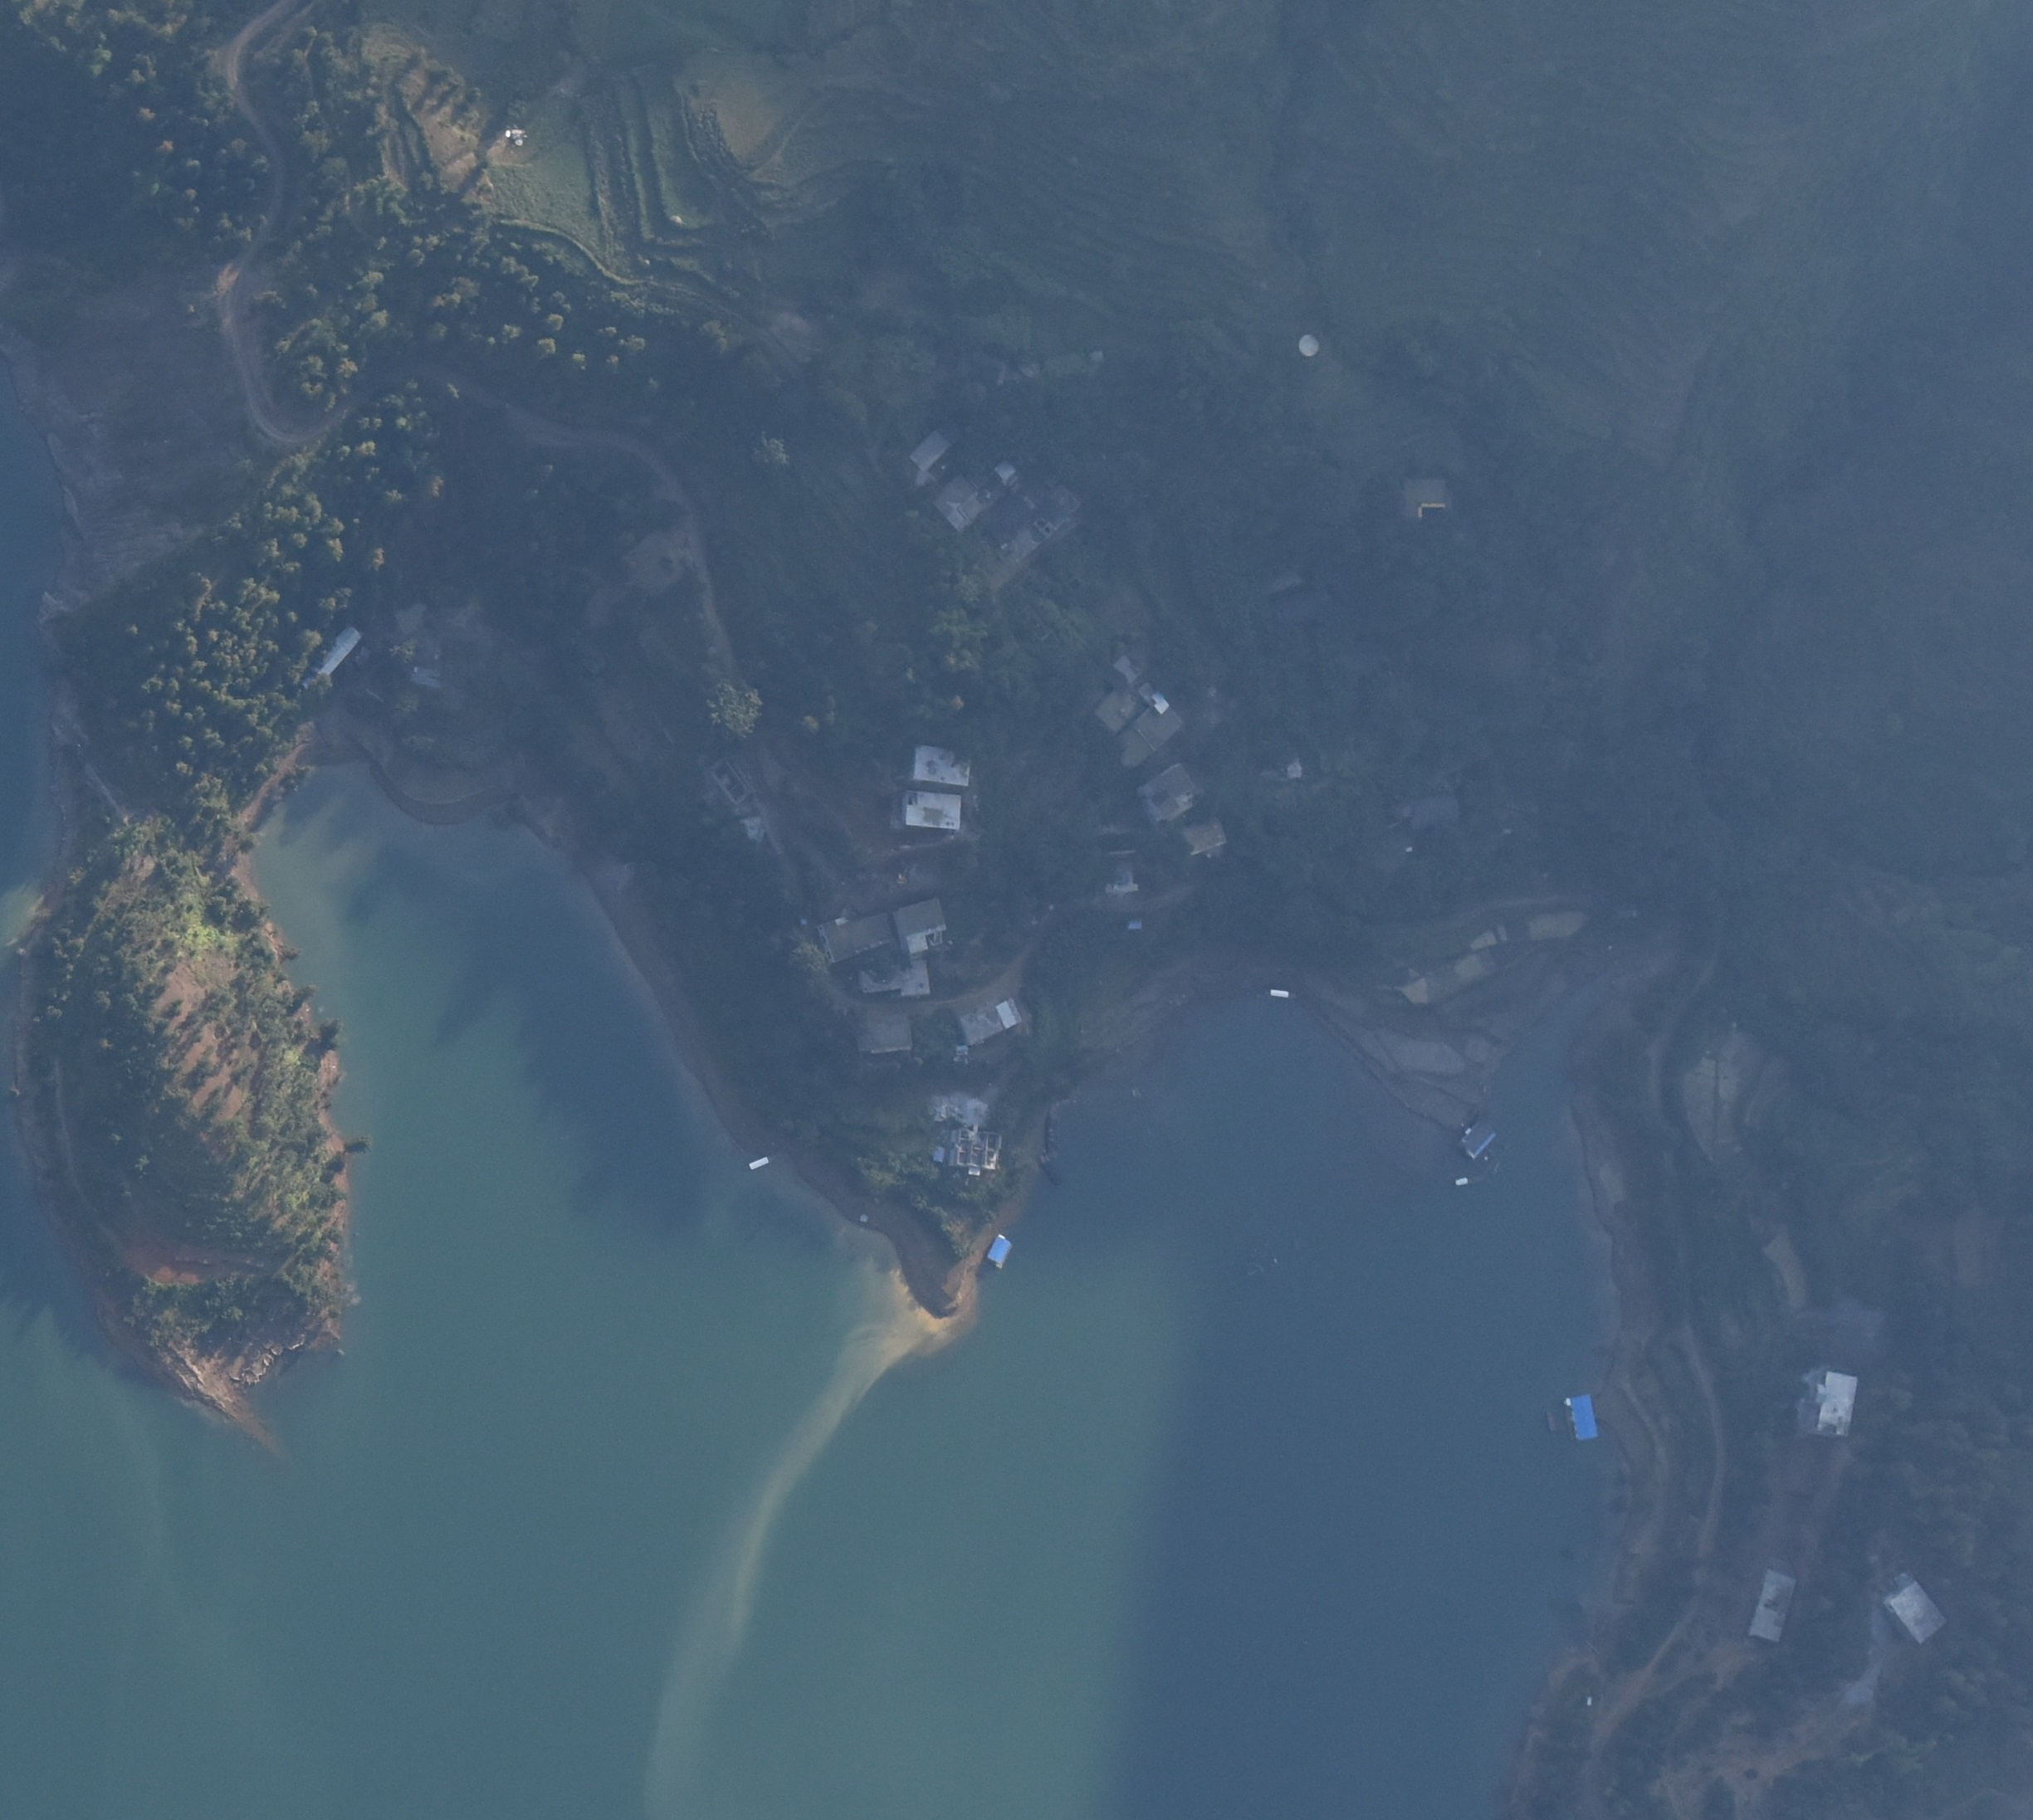building: (1096, 655, 1183, 764), (935, 462, 1014, 532), (1882, 1576, 1945, 1646), (1379, 789, 1462, 838), (817, 914, 896, 963), (1748, 1572, 1799, 1644), (956, 993, 1024, 1045), (1813, 1372, 1859, 1437), (896, 896, 951, 950), (1140, 768, 1197, 819), (856, 959, 931, 996), (952, 1130, 1009, 1174), (910, 747, 973, 785), (901, 789, 961, 829), (854, 1014, 910, 1052), (910, 427, 956, 467), (1183, 822, 1225, 857), (1460, 1119, 1492, 1158)
prefabricated-house: (300, 629, 362, 694), (1566, 1395, 1601, 1439), (986, 1233, 1012, 1268)
ship: (749, 1156, 771, 1174), (1453, 1174, 1485, 1186), (1265, 987, 1295, 998)
well: (1297, 330, 1321, 358), (859, 1212, 870, 1223)
